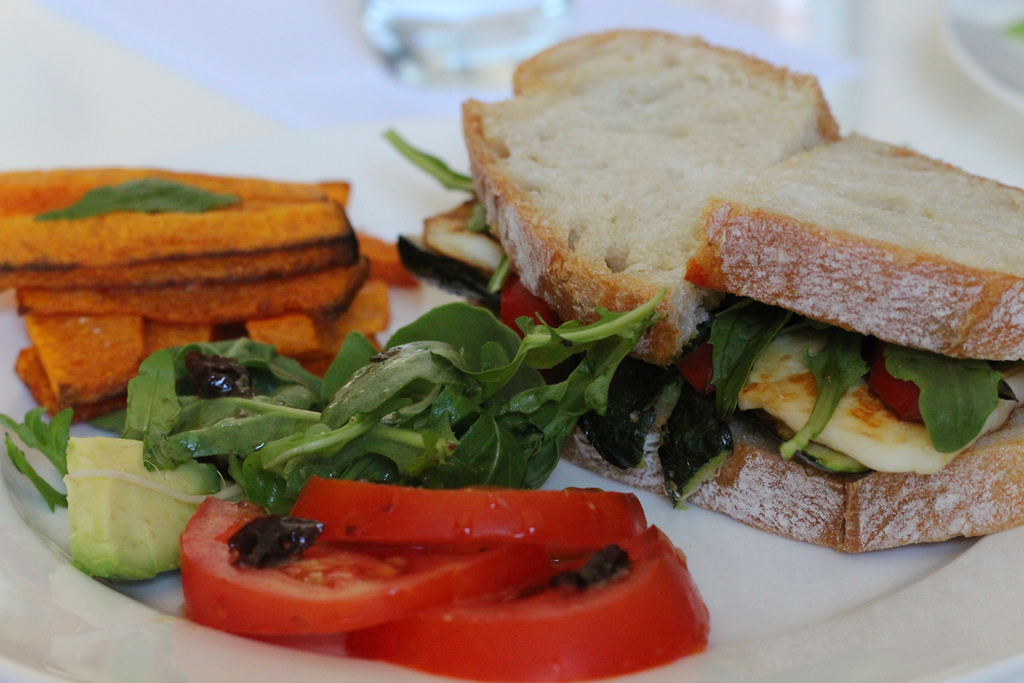slice of bread: (460, 22, 1024, 374)
